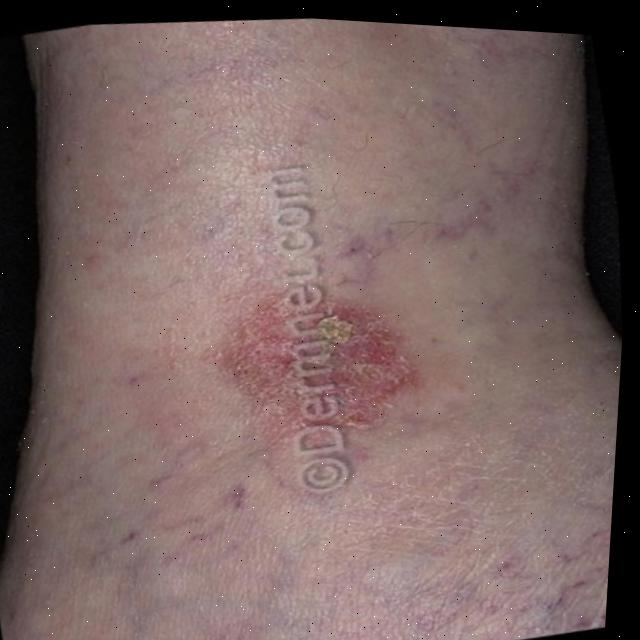Eczema: (233, 272, 406, 445)
